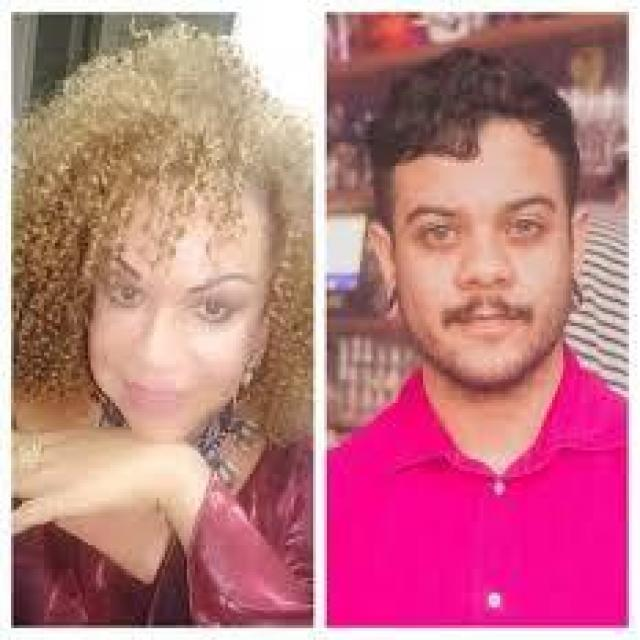person: (8, 33, 310, 625), (324, 33, 624, 622)
